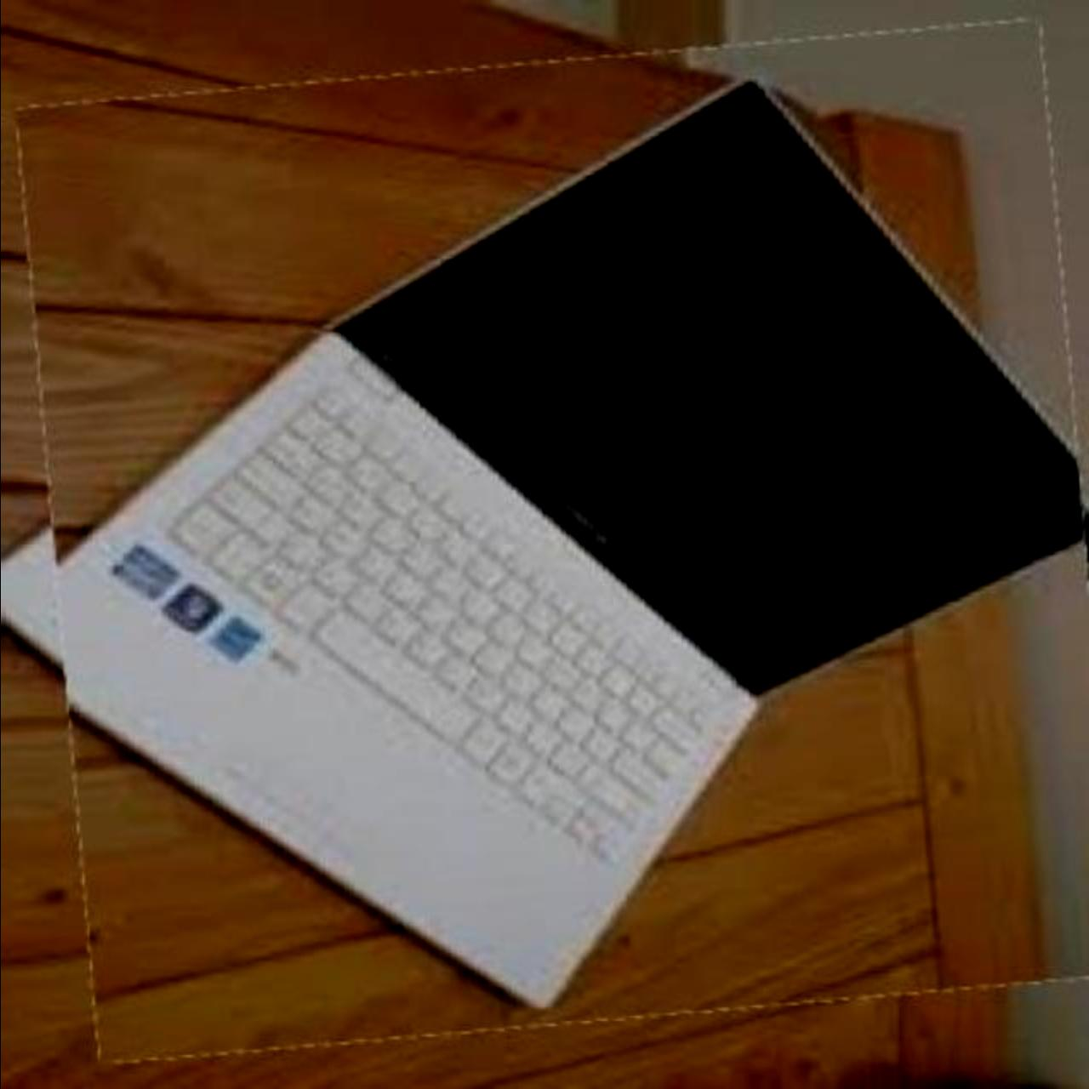laptop: (37, 40, 1089, 1042)
